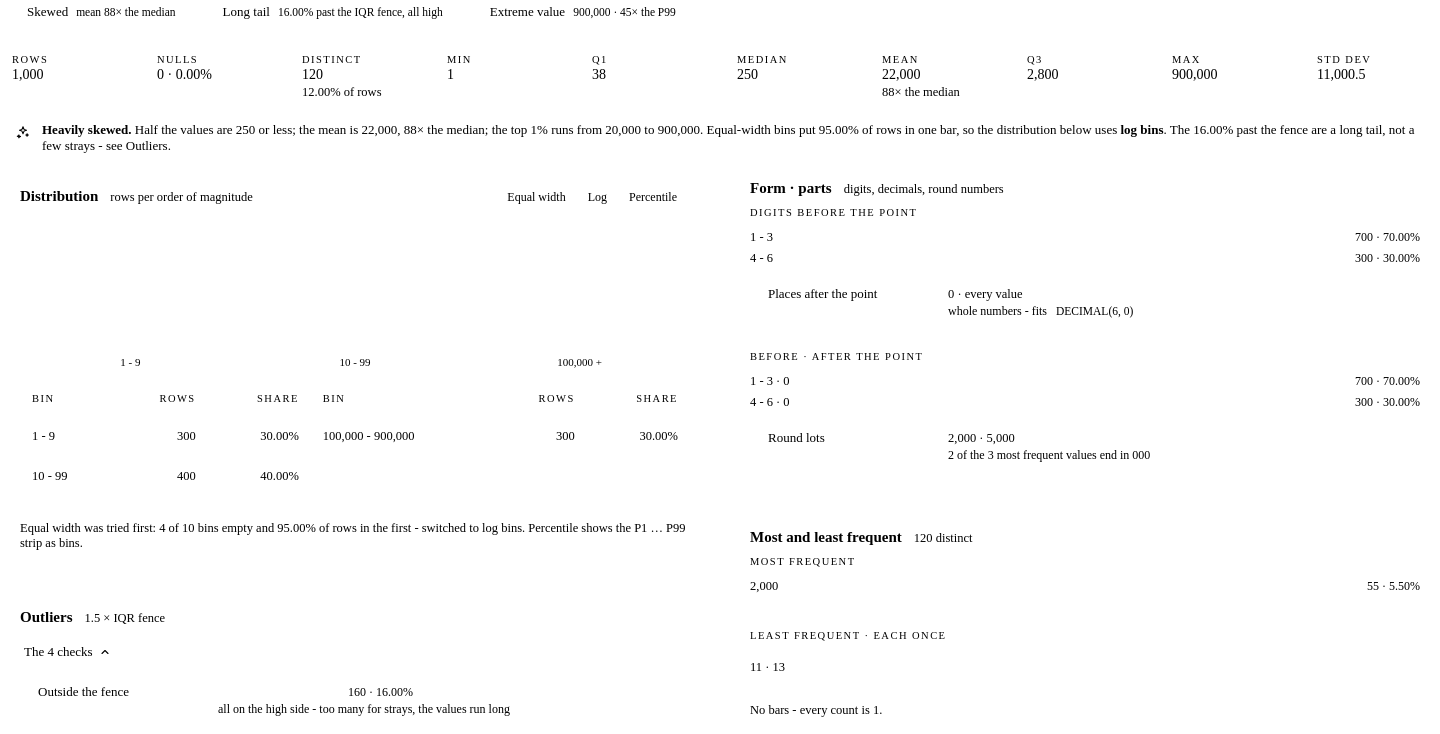
Scenario: a skewed column: the findings, mean in warn with its ratio, the banner, log bins by default, the form
This screenshot has width=1440, height=734.
expect the text "mean 88× the median" is shown: met, box [76,6,176,18]
expect the text "16.00% past the IQR fence, all high" is shown: met, box [278,6,443,18]
# percentile: the strip as bins
Click the button "Percentile".
click(653, 197)  # box [619,183,687,211]
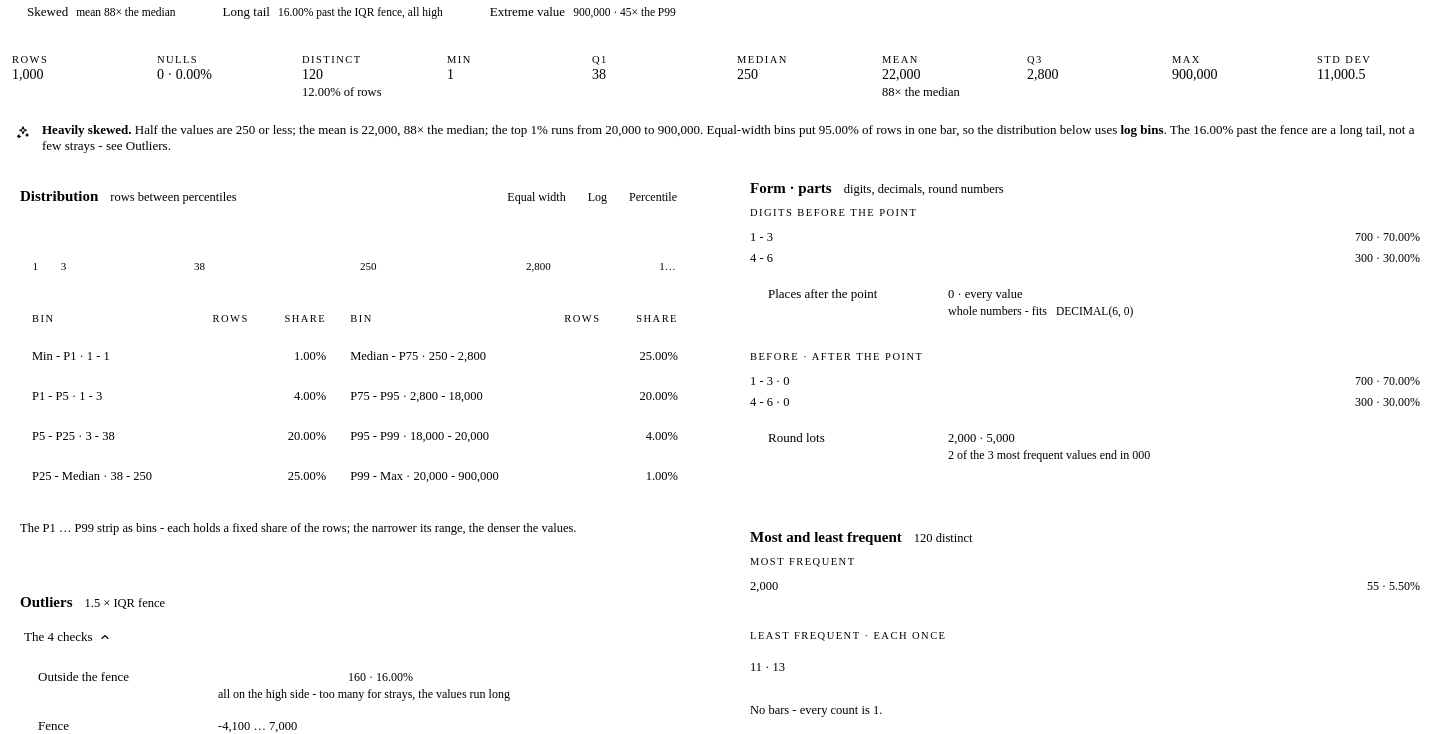
expect the text "P25 - Median · 38 - 250" is shown: met, box [20,456,190,496]
Click the button "Equal width".
click(536, 197)  # box [497,183,576,211]
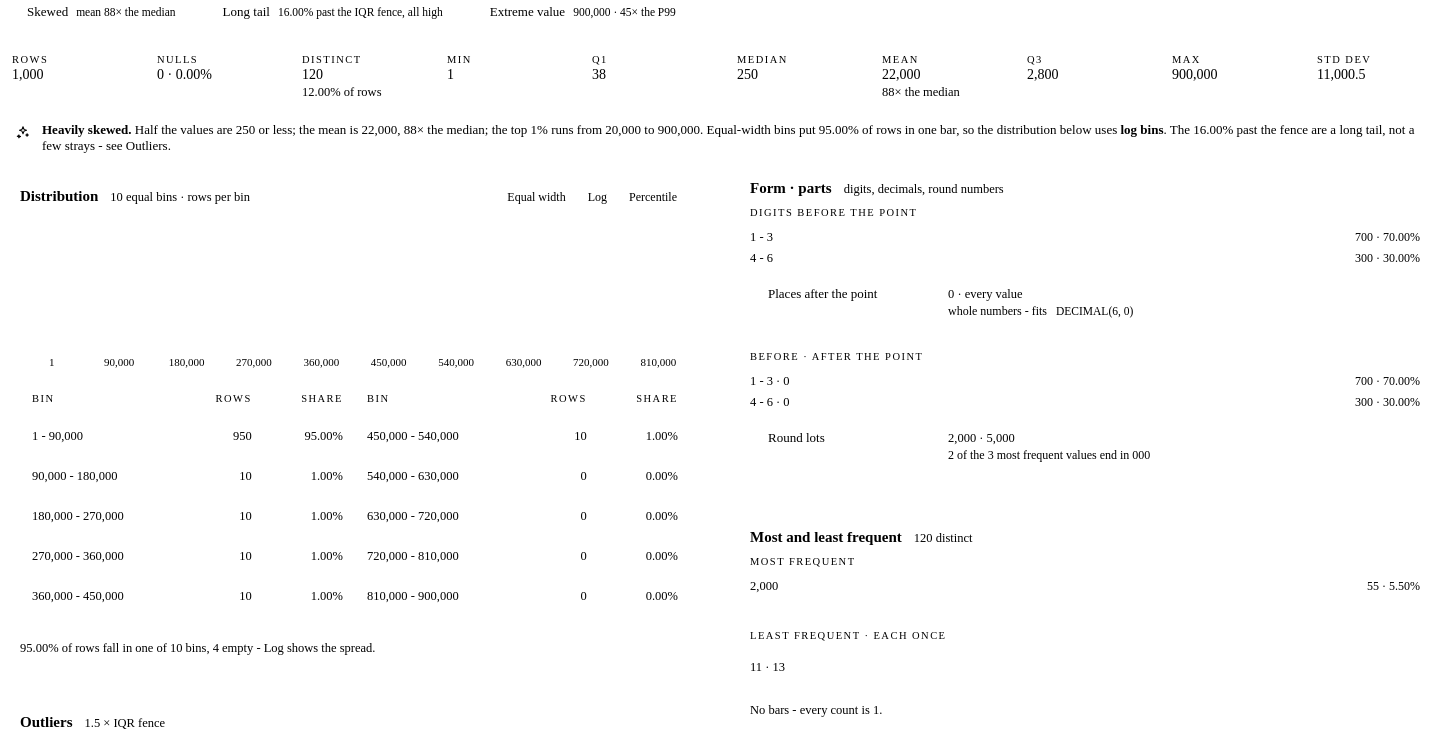
expect the text "95.00% of rows fall in one of 10 bins" is shown: met, box [20,640,376,654]
